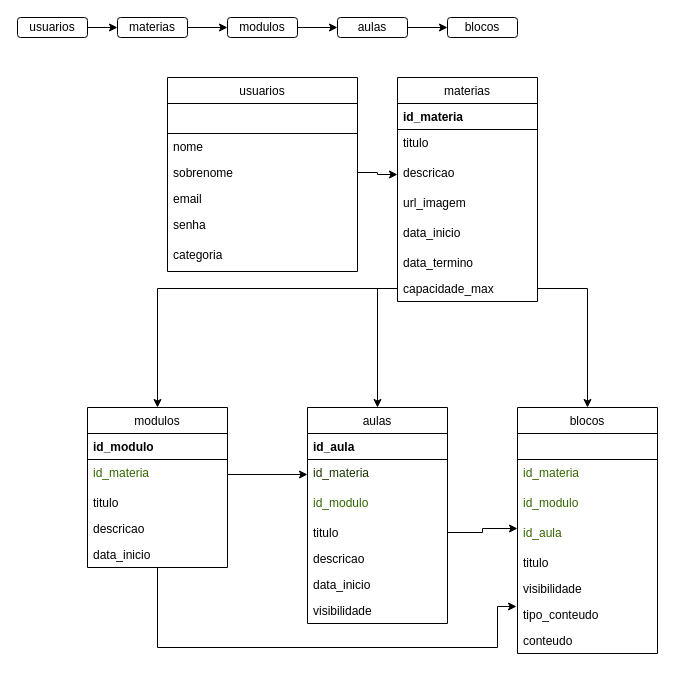
The diagram is 675 pixels wide and 674 high, and some of its shapes have lost their labels. Here are the shapes that lost their labels. From the top down, the centre of each, then its label:
At (x=262, y=118): "id_usuario".
At (x=587, y=446): "id_bloco".
